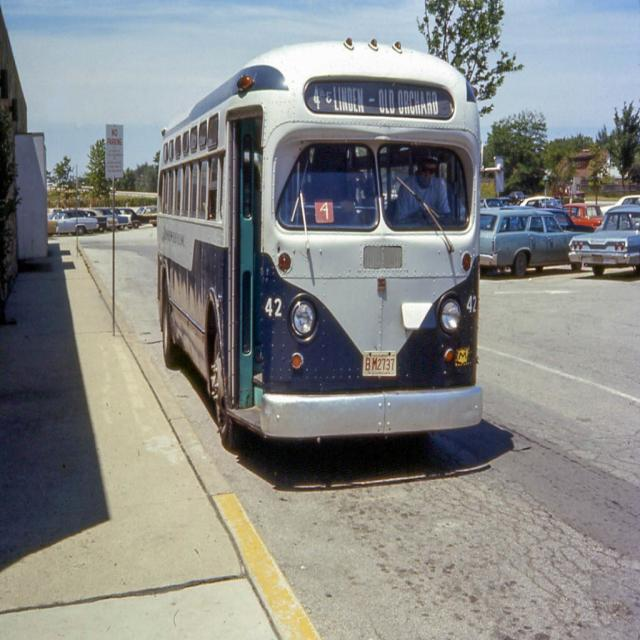Buses: (152, 35, 484, 456)
Passenger Car: (566, 202, 640, 285), (484, 210, 570, 272)
